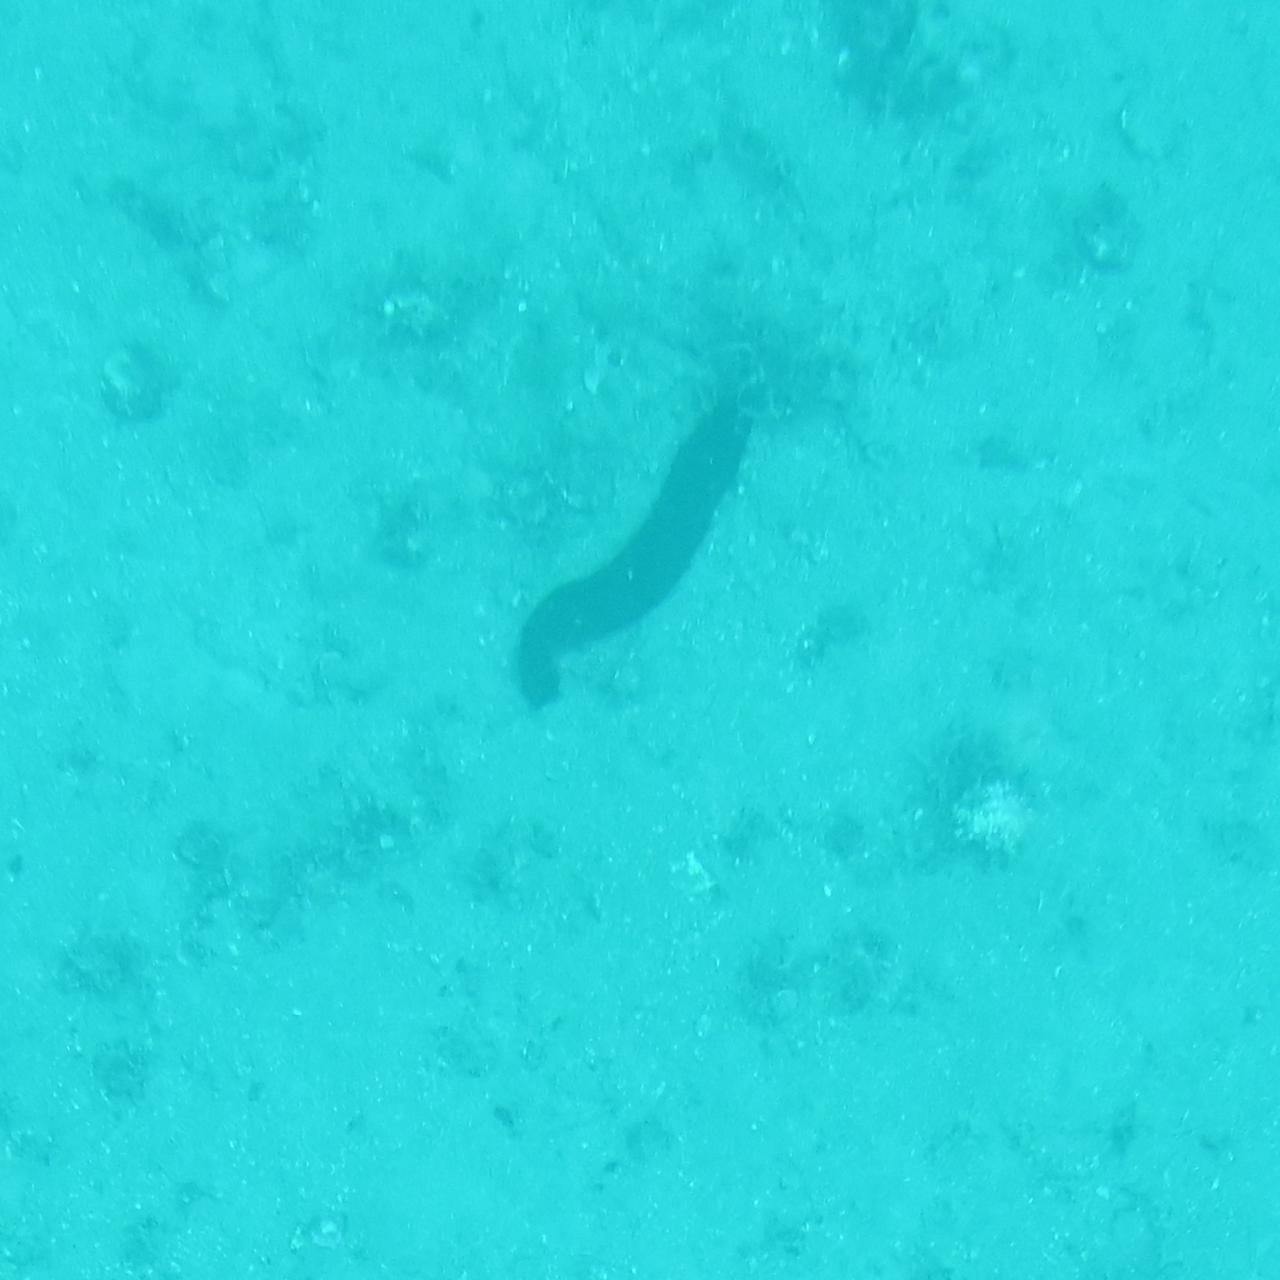Holothuria tubulosa: (503, 367, 777, 728)
